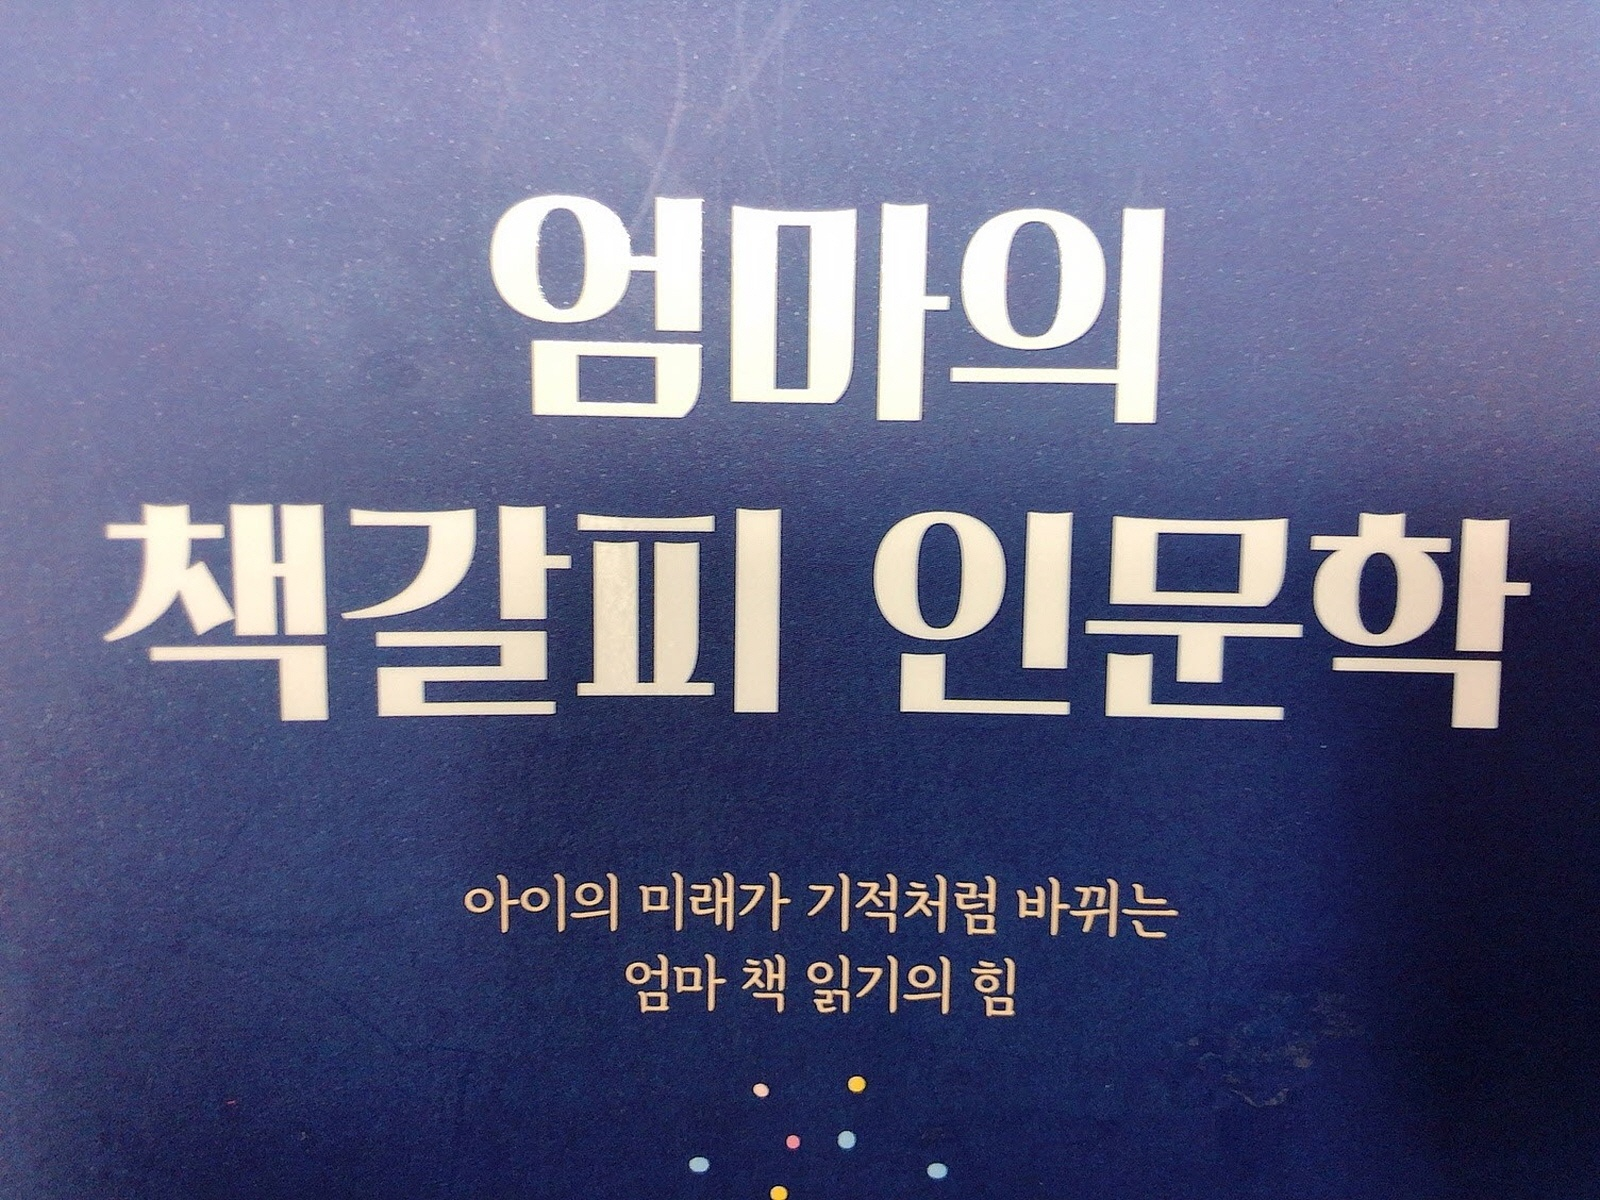text: (39, 442, 1565, 816), (430, 134, 1228, 456), (436, 847, 1202, 947), (587, 943, 1062, 1041)
